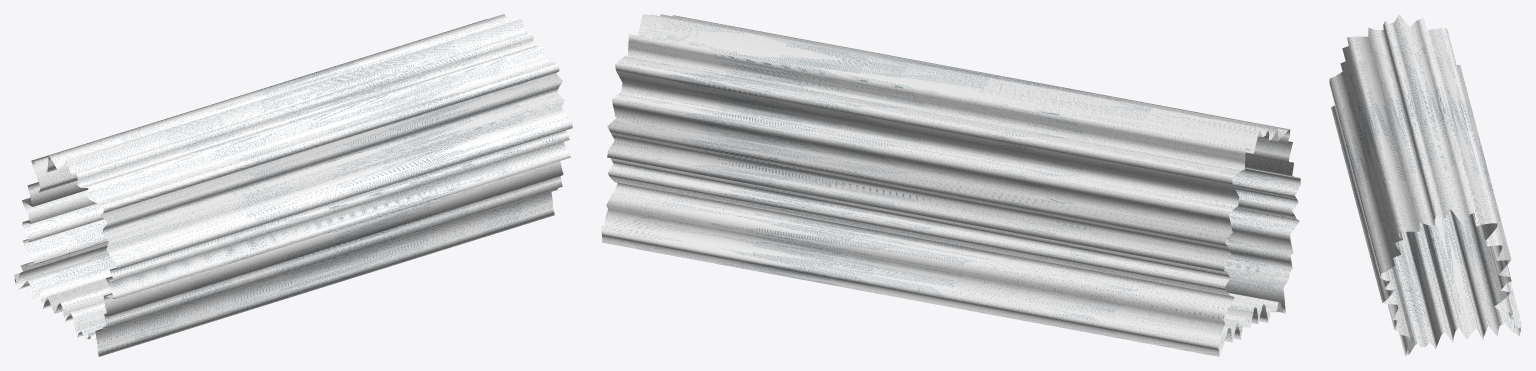
The model's file is cave-shaft.dae.
The picture shows the model from 3 angles, left to right: view 1: azimuth 30°, elevation 25°; view 2: azimuth 150°, elevation 25°; view 3: azimuth 270°, elevation 25°; orthographic projection. The views are drawn at different scales.
Parts seen in each view (by area): view 1: SketchUp; view 2: SketchUp; view 3: SketchUp.
Part boxes in pixels (box(x1,y1,x2,y2)): SketchUp: box(14, 14, 572, 356); SketchUp: box(601, 14, 1300, 356); SketchUp: box(1329, 14, 1521, 356).
Bounding box in the file's own units: 159 × 64.36 × 53.73.
